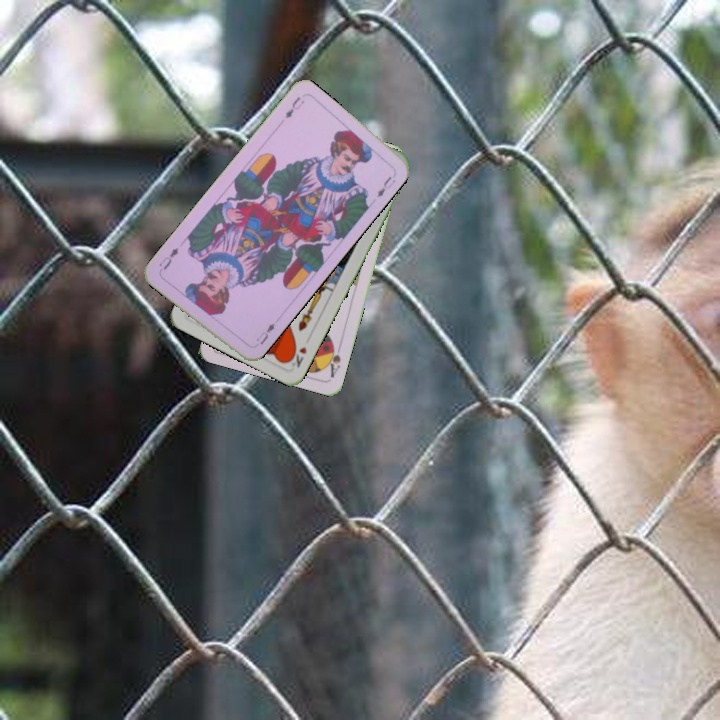EU: (281, 93, 307, 121), (252, 319, 277, 347)
HK: (284, 342, 309, 371)
SA: (322, 339, 344, 381)
